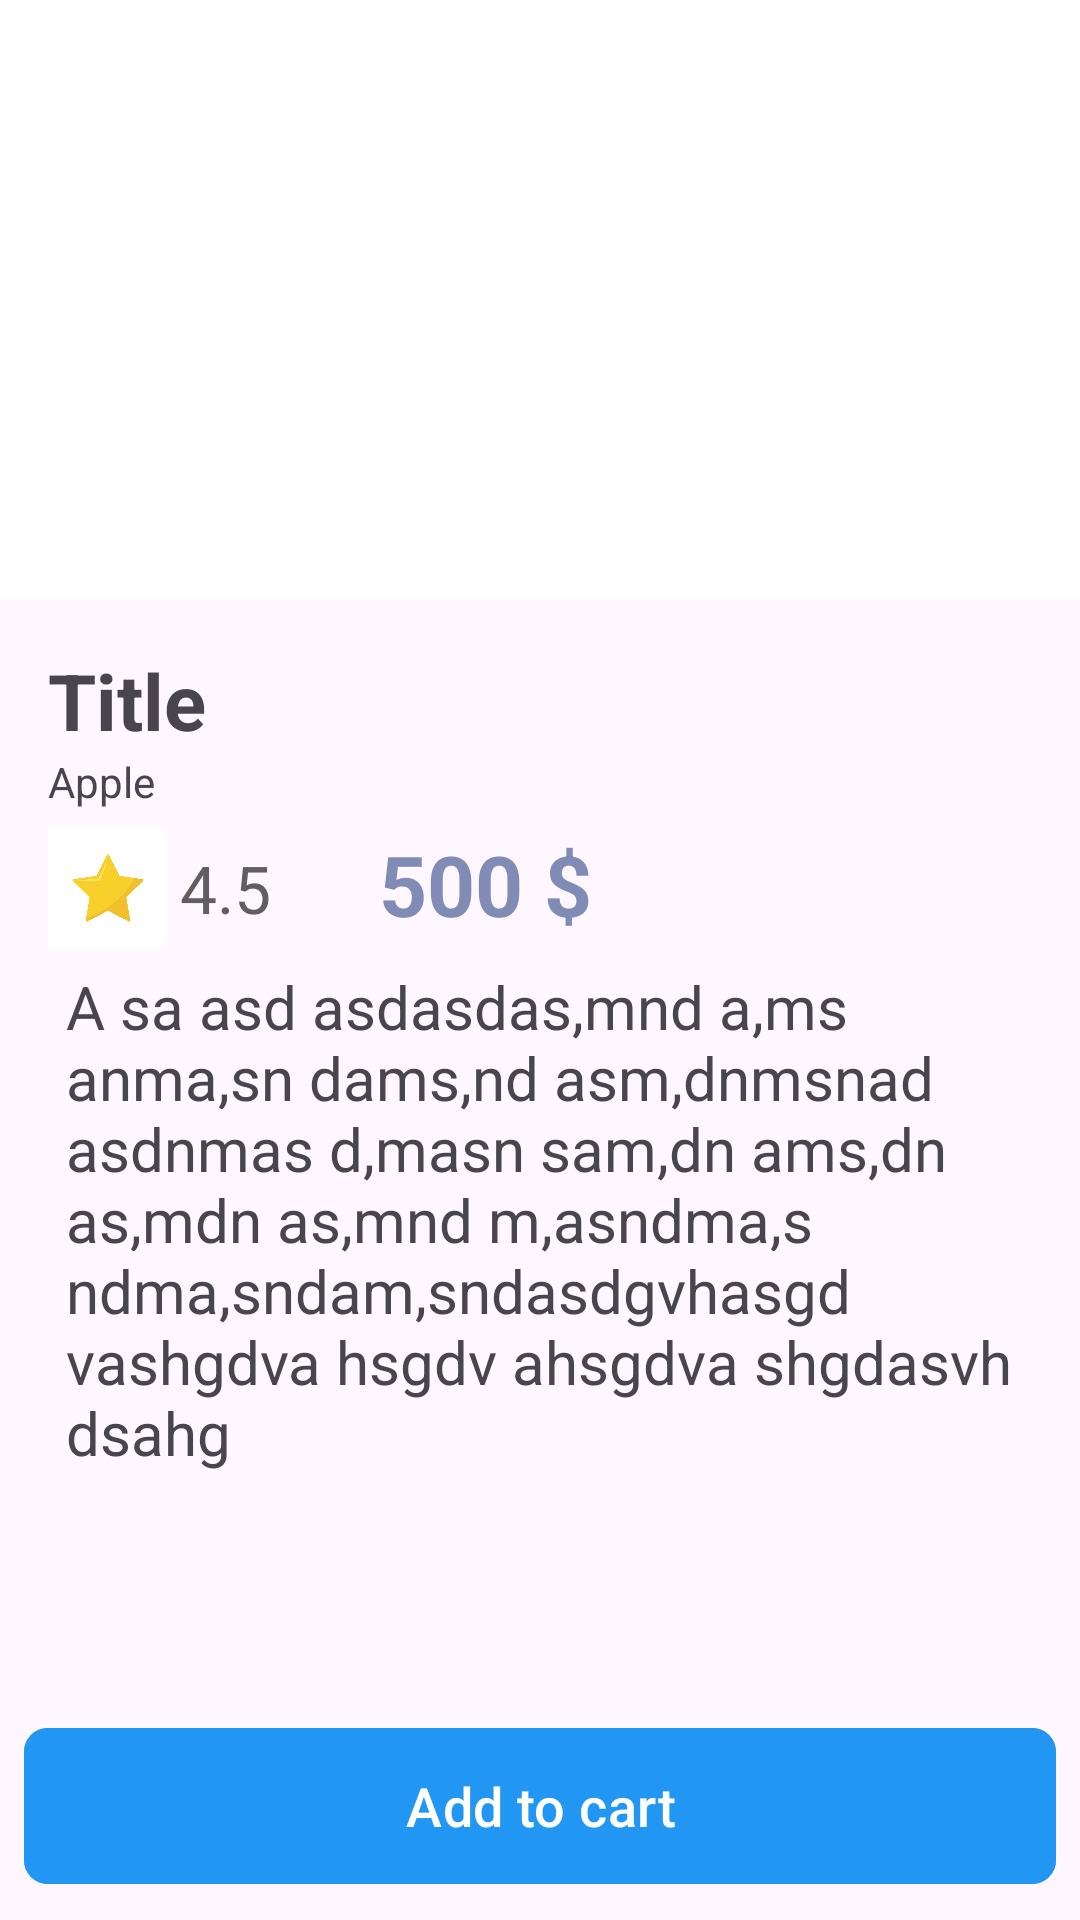

Named icons in this screenshot (1080px×1920px) and their bounding boxes, (x1, y1, x2, y2):
star: (72, 854, 144, 922)
